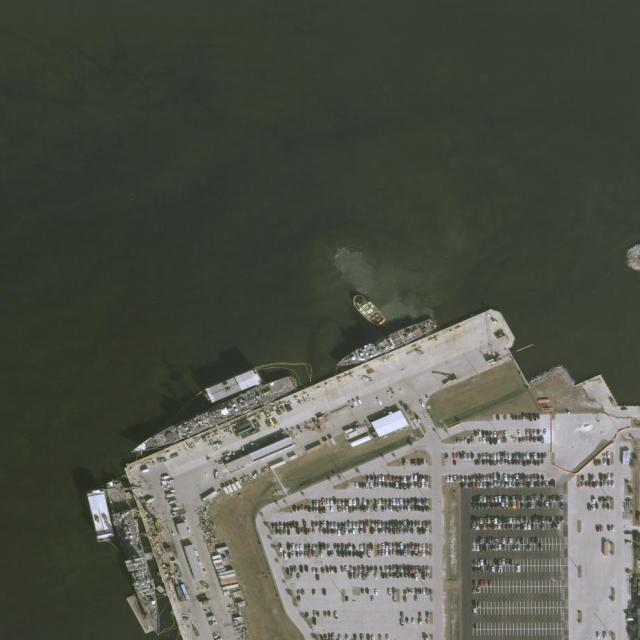Destroyer: (127, 374, 299, 460), (332, 315, 440, 373)
Frigate: (105, 482, 165, 639)
Hovercraft: (349, 290, 387, 329)
